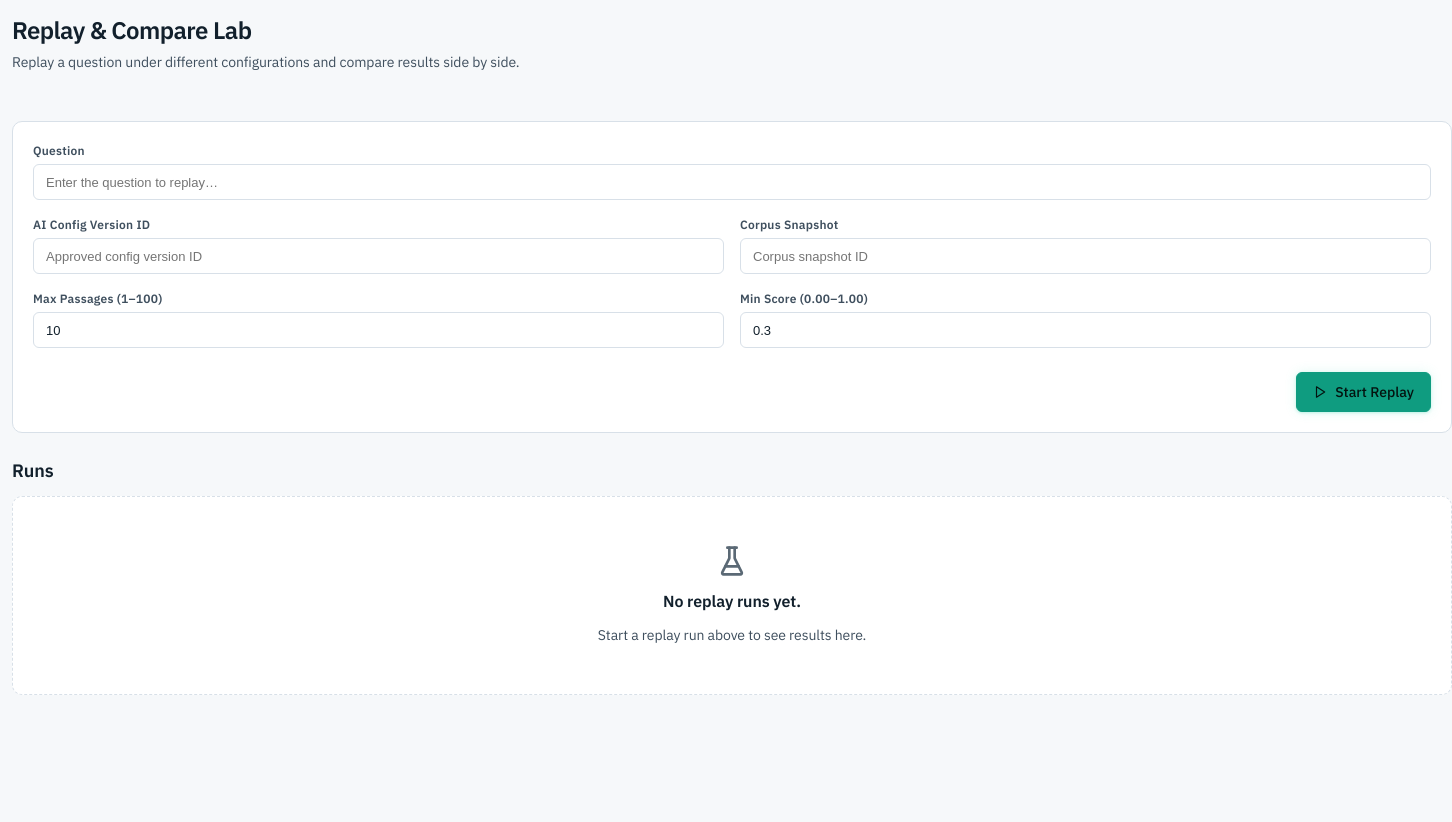
Test: ReplayLabPage › shows an error message when run creation fails
Type "Bad run" into the field labelled "Question" at [732, 182], box [33, 164, 1431, 200]
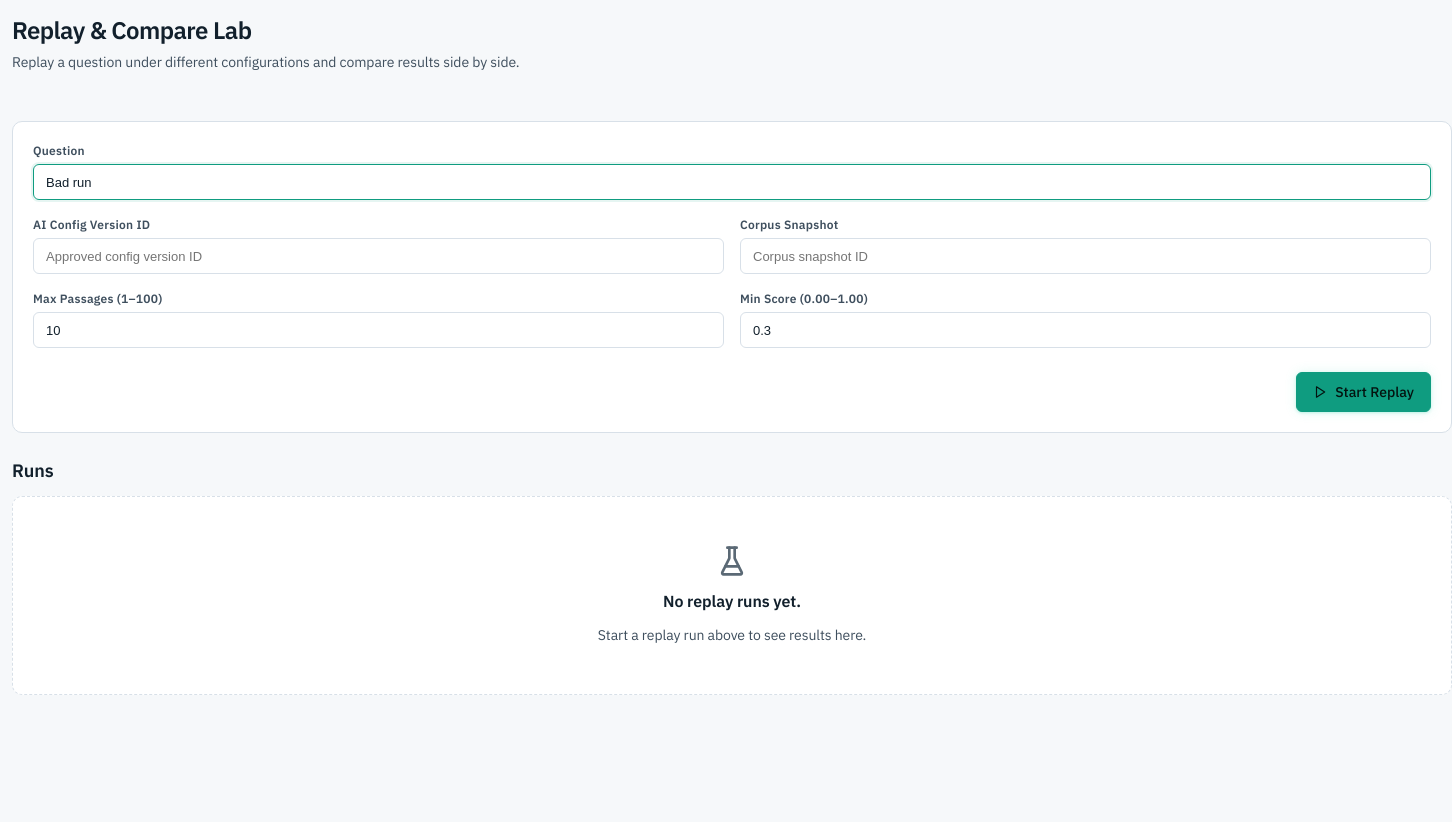
Type "bad-config" into the field labelled "AI Config Version ID" at [378, 256], box [33, 238, 724, 274]
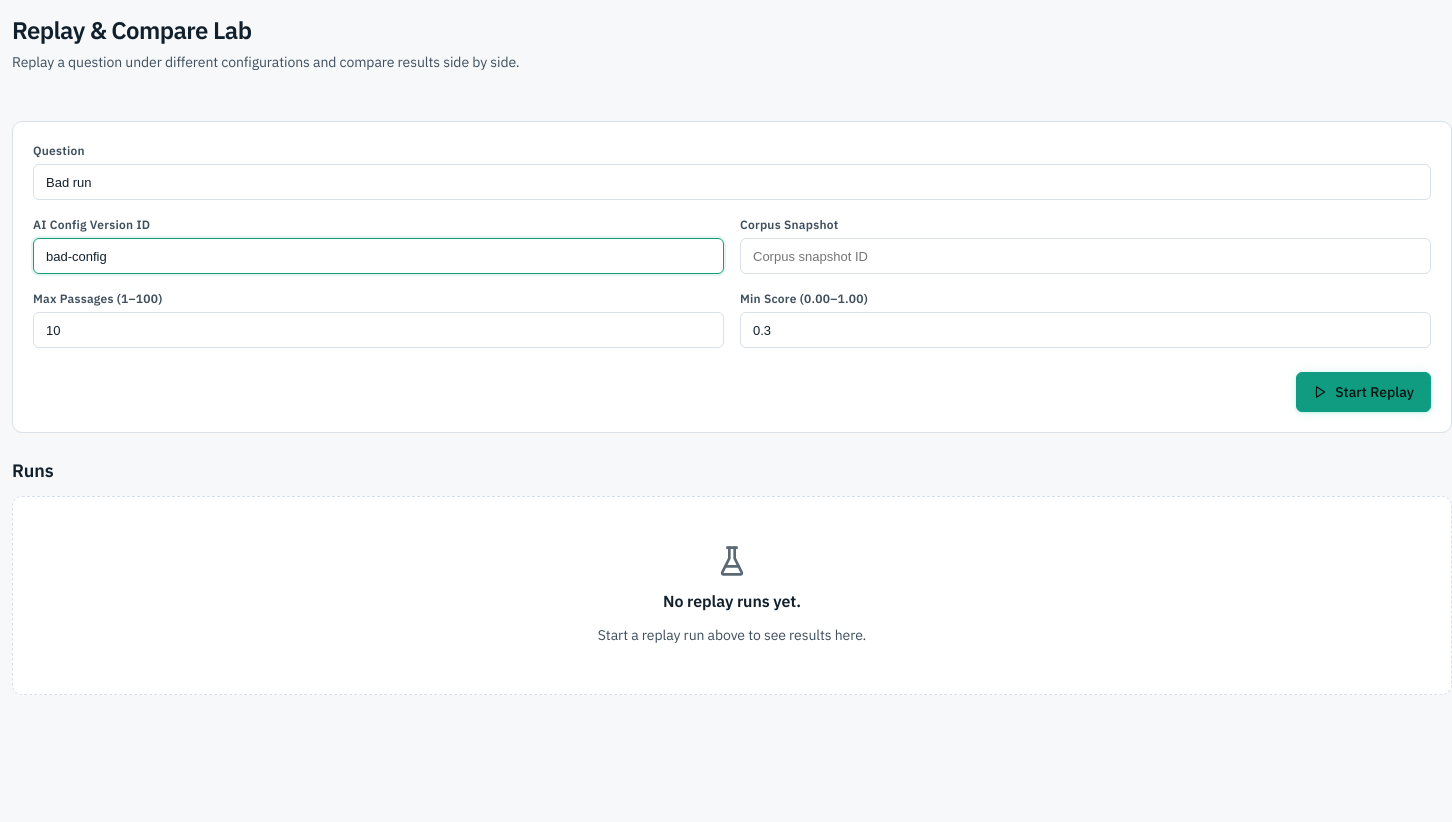
Fill corpus snapshot manually since no dropdown
Type "snap-x" into the field labelled "Corpus Snapshot" at [1086, 256], box [740, 238, 1431, 274]
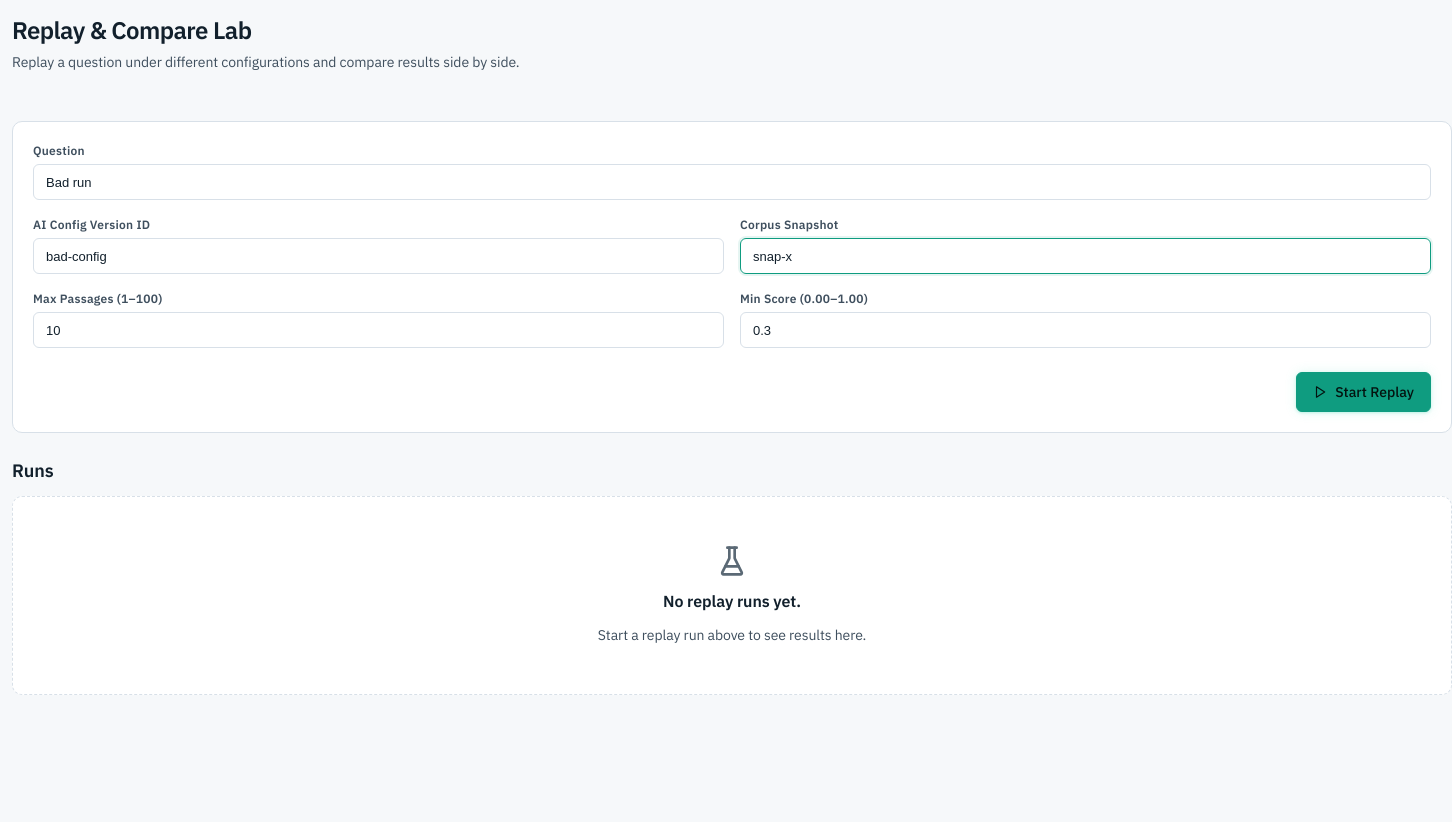
Click the button "Start Replay" at [1364, 392], box [1296, 372, 1431, 412]
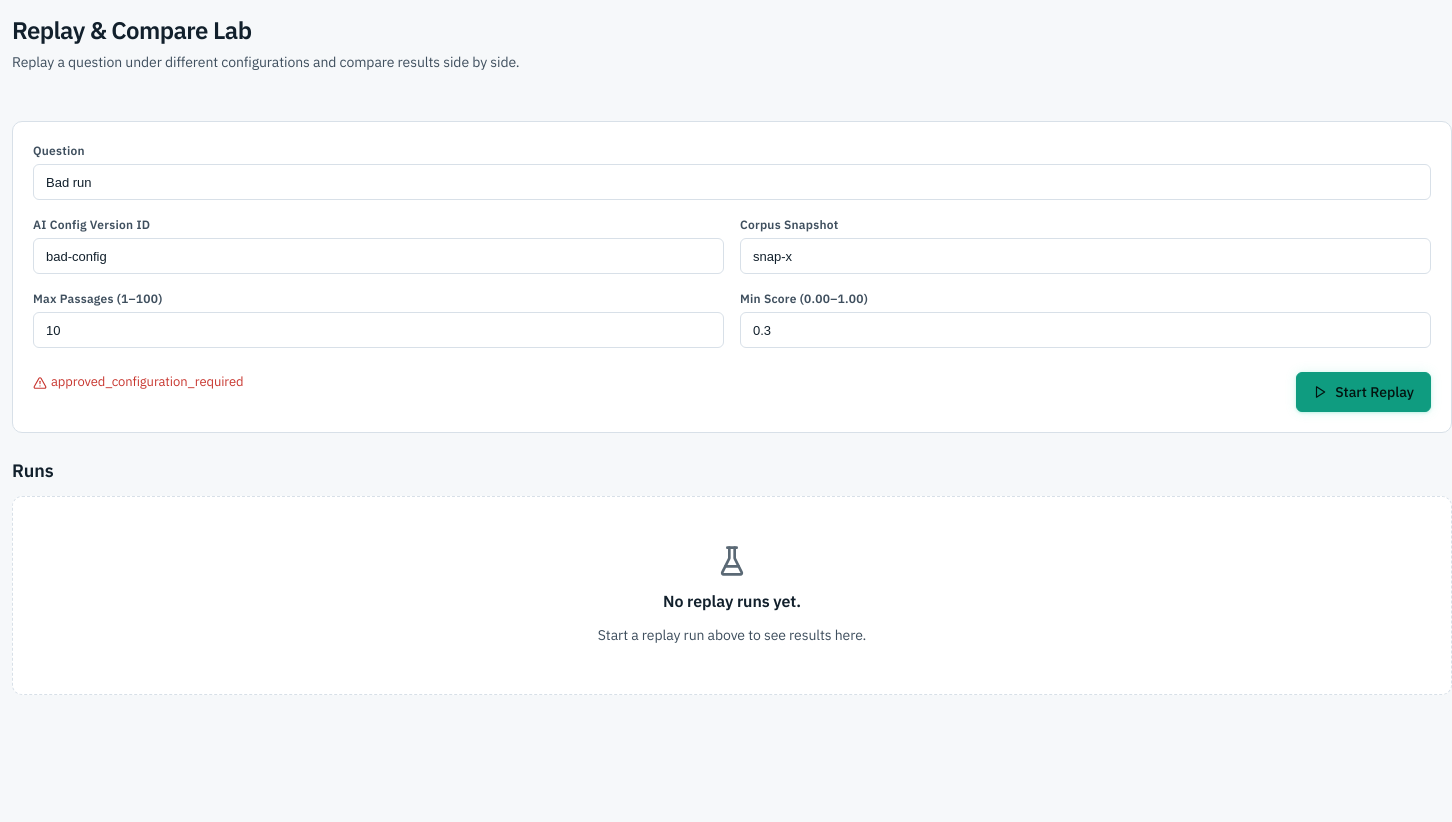
Expected: the text "approved_configuration_required" is shown, [33, 373, 244, 390]
